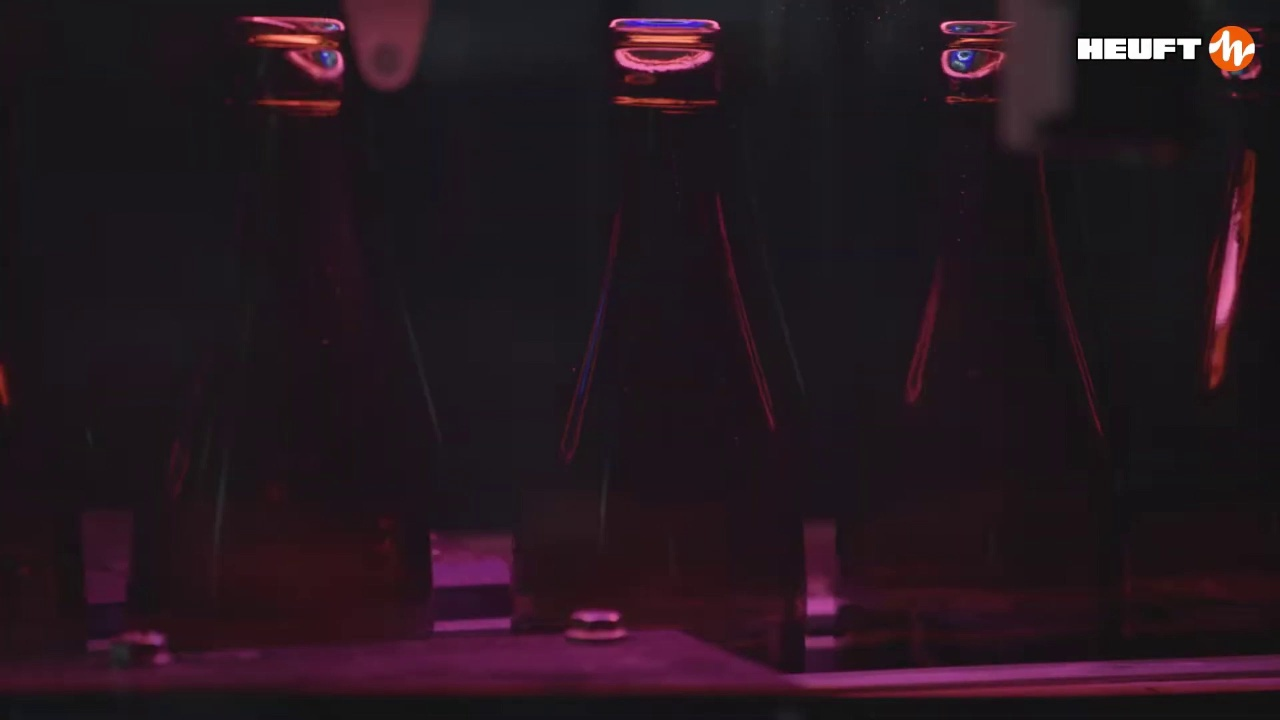bottle: (125, 13, 435, 646), (512, 18, 807, 674), (833, 18, 1128, 668)
